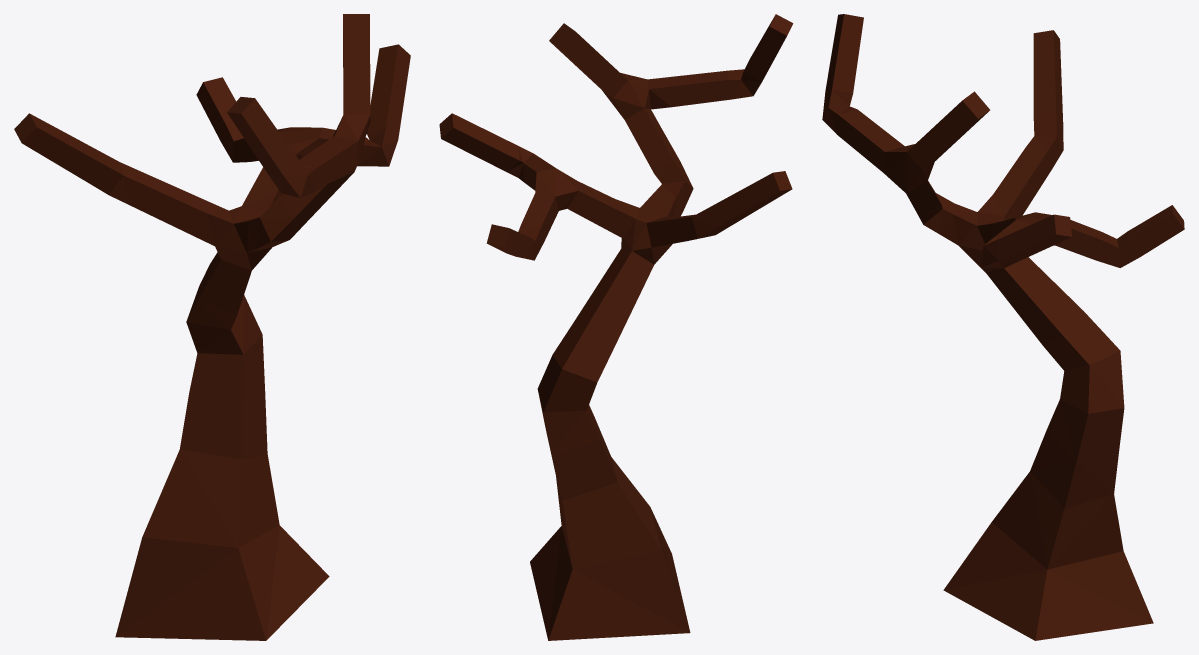
File: DesertTree4.fbx
3 renders of one model, left to right at view 1: azimuth 30°, elevation 25°; view 2: azimuth 150°, elevation 25°; view 3: azimuth 270°, elevation 25°, orthographic. The views are drawn at different scales.
Visible parts, largest first — view 1: deserttree4; view 2: deserttree4; view 3: deserttree4.
Boxes of the visible parts, <box> form: deserttree4: <box>14,14,410,640</box>; deserttree4: <box>439,14,793,640</box>; deserttree4: <box>822,14,1184,640</box>.
Size of the model in its own units: 390 by 581 by 336.
